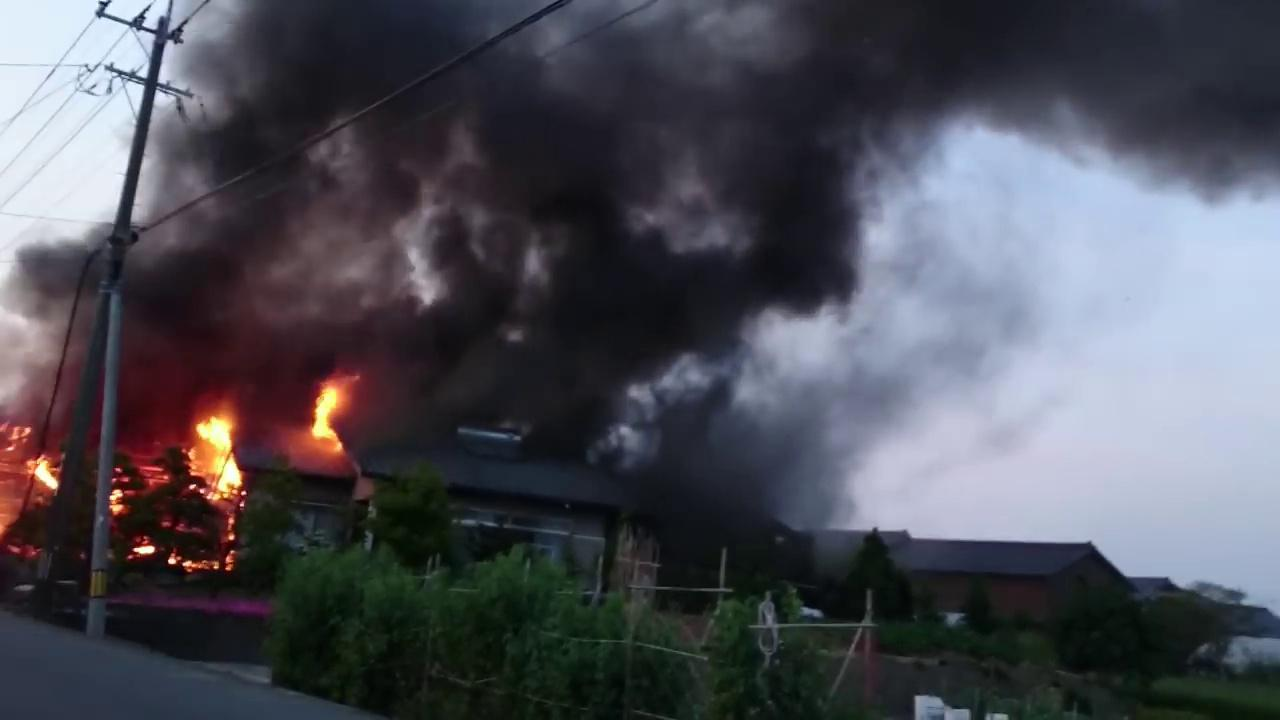Fire: (186, 413, 246, 499), (309, 380, 353, 452), (168, 554, 238, 571), (34, 457, 65, 491), (133, 541, 159, 559)
